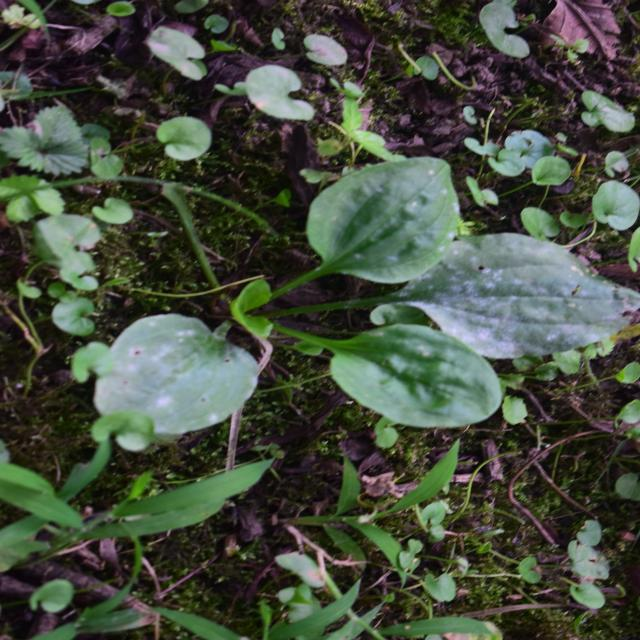plantain: (161, 27, 468, 520)
